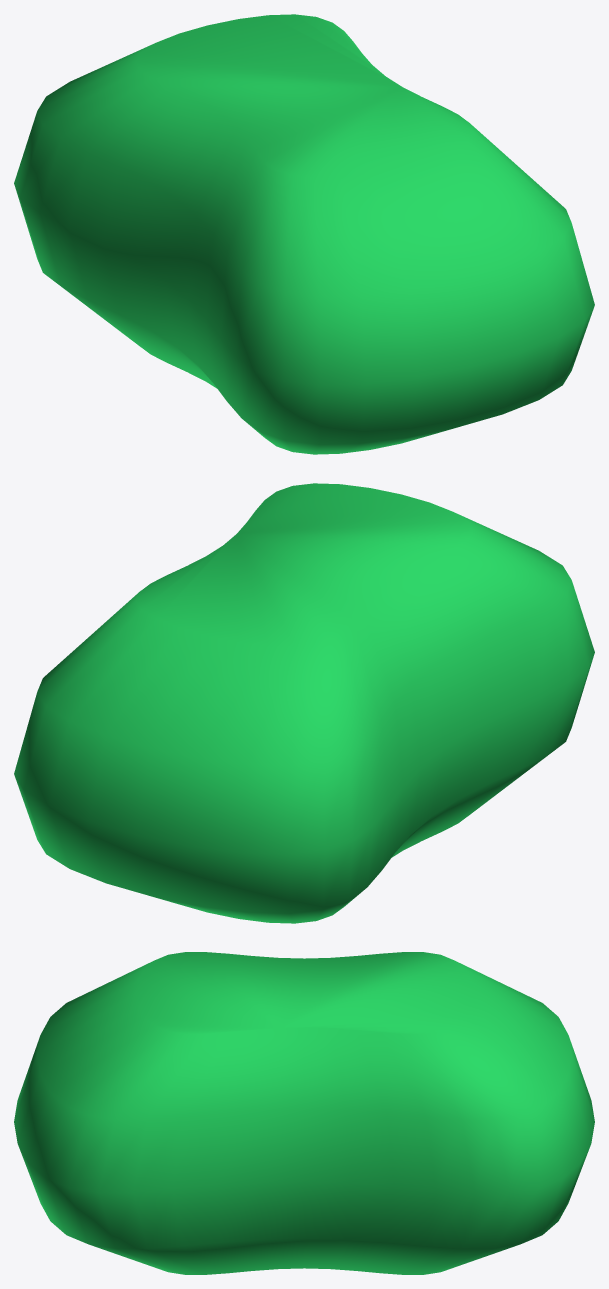
File: Candy_04.fbx
3 views of the same model, one above another, from view 1: azimuth 30°, elevation 25°; view 2: azimuth 150°, elevation 25°; view 3: azimuth 270°, elevation 25° (orthographic). The views are drawn at different scales.
Visible parts, largest first — view 1: Green_double_lobe_gummy; view 2: Green_double_lobe_gummy; view 3: Green_double_lobe_gummy.
Boxes of the visible parts, x1,y1,x2,y2 form: Green_double_lobe_gummy: (14,14,594,454); Green_double_lobe_gummy: (14,483,594,923); Green_double_lobe_gummy: (14,952,594,1274).
Bounding box in the file's own units: 54.18 × 43 × 94.
